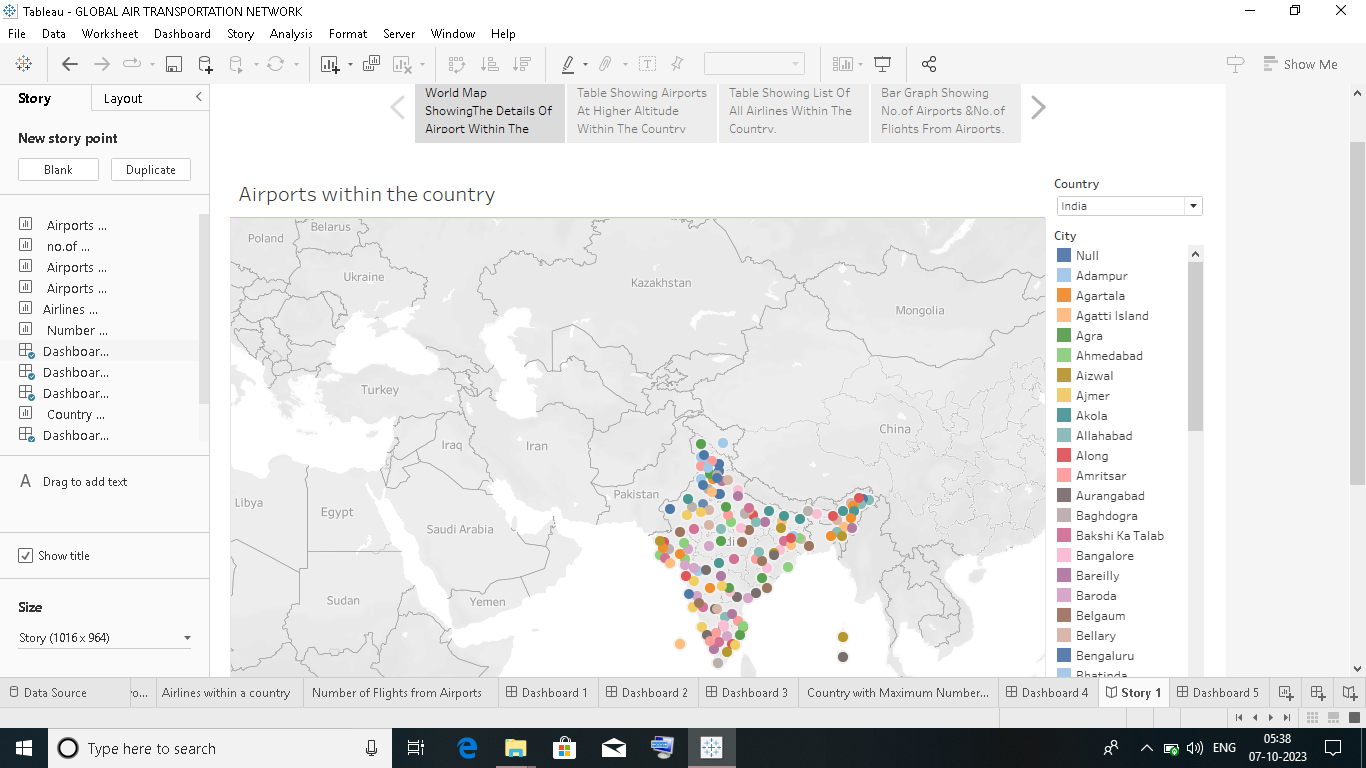

What the dashboard file says about the page in this screenshot:
{"tool":"tableau","page":{"name":"Dashboard 1","canvas":[1000,800],"ordinal":0},"visuals":[{"type":"worksheet","title":" Airports within the country","mark":"Automatic","rows":["Latitude"],"cols":["Longitude","Longitude"],"box":[8,8,824,784]},{"type":"filter","title":" Airports within the country","param":"[federated.1a1zrgq1lutcvu1c68p7n0bjfrti].[none:Country:nk]","box":[832,8,160,52]},{"type":"legend","title":" Airports within the country","param":"[federated.1a1zrgq1lutcvu1c68p7n0bjfrti].[none:City:nk]","box":[832,60,160,732]}]}

Visuals, with their boxes on the page's 1000x800 design canvas (x1, y1, x2, y2). These are canvas units, not pixel positions in the 1366x768 screenshot, which may show the page scaled, cropped or inside an application window:
" Airports within the country" worksheet: rect(8, 8, 832, 792)
" Airports within the country" filter: rect(832, 8, 992, 60)
" Airports within the country" legend: rect(832, 60, 992, 792)
